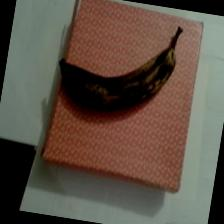Banana Rotten: (50, 44, 174, 130)
